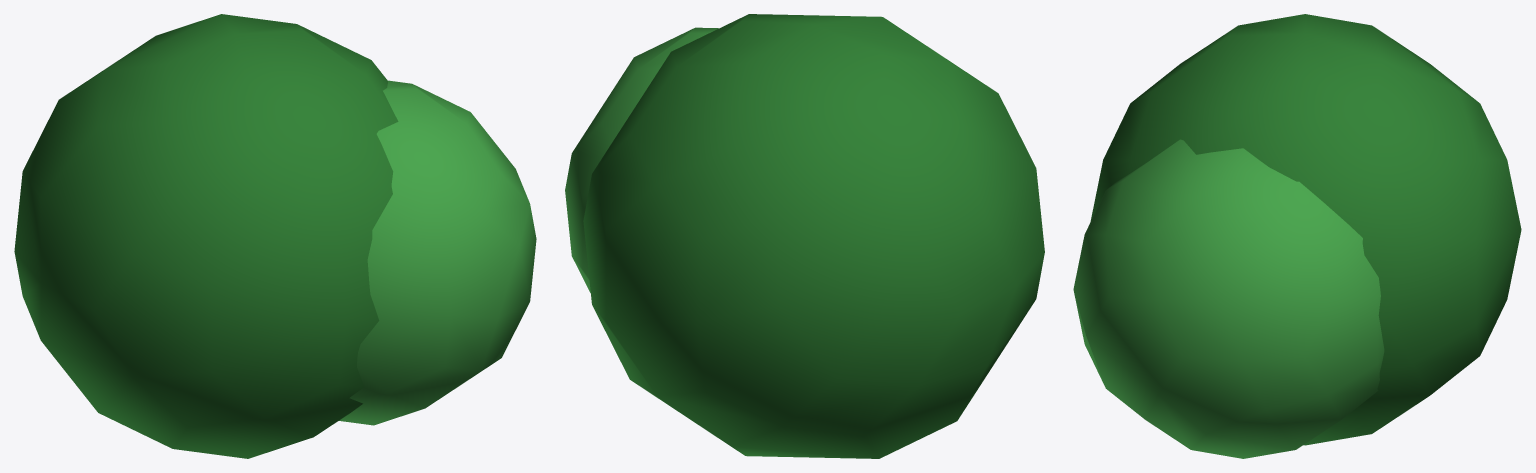
Rendered from bush_01.glb.
The picture shows the model from 3 angles, left to right: view 1: azimuth 30°, elevation 25°; view 2: azimuth 150°, elevation 25°; view 3: azimuth 270°, elevation 25°; orthographic projection. The views are drawn at different scales.
Bounding box in the file's own units: 3.2 × 2.8 × 2.9.
